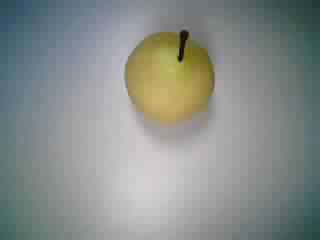pear: (118, 20, 224, 129)
